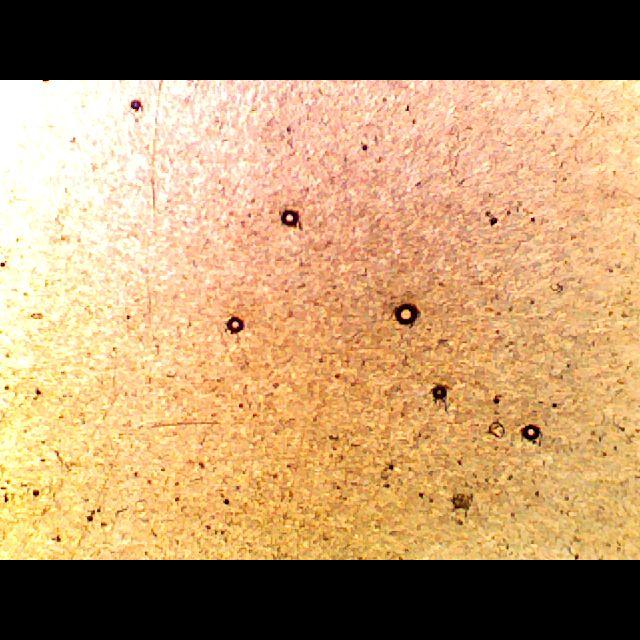microbeads: (391, 303, 424, 329), (280, 205, 304, 231), (224, 315, 246, 333), (430, 384, 450, 402), (521, 426, 541, 442)
